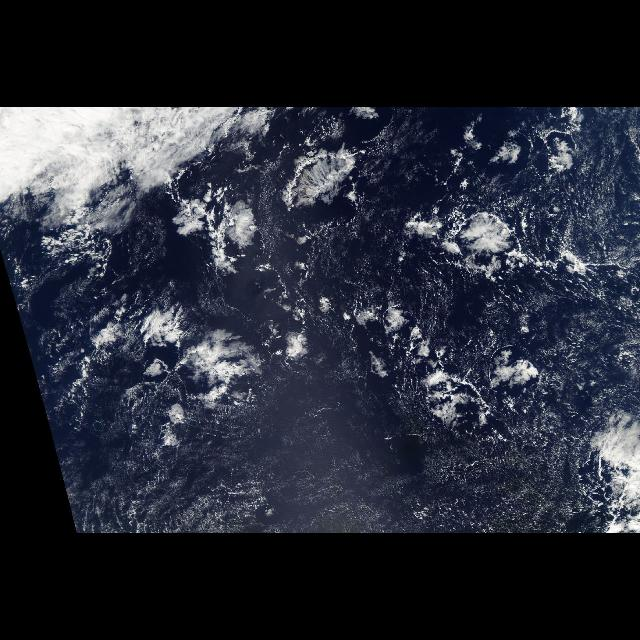Flower: (210, 140, 536, 288)
Gravel: (203, 136, 632, 480)
Sugar: (74, 398, 598, 532)
